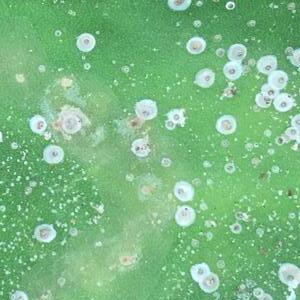Femea: (135, 102, 155, 118), (275, 96, 294, 111), (76, 34, 95, 48), (34, 224, 50, 240), (46, 147, 64, 161), (173, 183, 191, 197), (215, 117, 230, 133), (190, 264, 205, 280), (270, 72, 285, 87), (202, 274, 218, 288), (198, 72, 213, 86), (224, 63, 240, 76), (258, 59, 274, 72), (227, 47, 242, 60), (31, 117, 44, 132), (261, 86, 277, 96), (186, 40, 200, 51), (169, 110, 180, 123)
